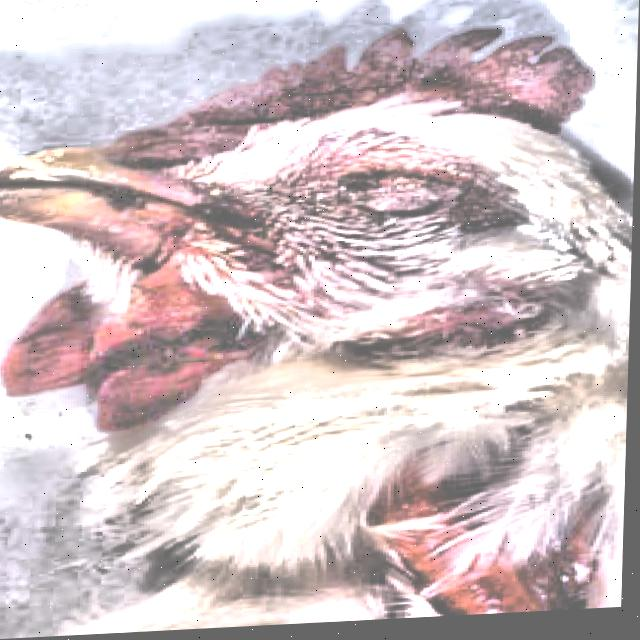Infectios bronchitis: (0, 33, 618, 432)
